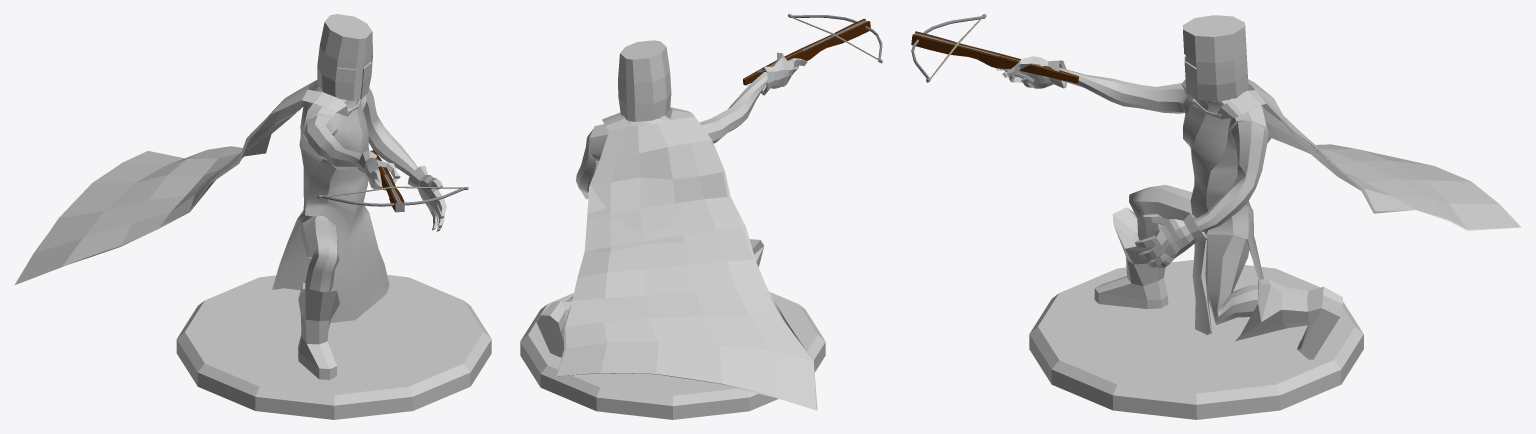
Rendered from Templar_Crossbow.fbx.
The picture shows the model from 3 angles, left to right: view 1: azimuth 30°, elevation 25°; view 2: azimuth 150°, elevation 25°; view 3: azimuth 270°, elevation 25°; orthographic projection. The views are drawn at different scales.
Parts seen in each view (by area): view 1: Base7, Templar_Crossbow, Cape, Crossbow; view 2: Cape, Base7, Templar_Crossbow, Crossbow; view 3: Templar_Crossbow, Base7, Cape, Crossbow.
Part boxes in pixels (box(x1,y1,x2,y2)): Base7: box(176, 275, 491, 419); Templar_Crossbow: box(272, 14, 446, 379); Cape: box(14, 80, 361, 285); Crossbow: box(317, 150, 468, 212); Cape: box(556, 107, 817, 410); Base7: box(520, 292, 825, 419); Templar_Crossbow: box(536, 40, 807, 357); Crossbow: box(743, 14, 882, 85); Templar_Crossbow: box(996, 15, 1342, 359); Base7: box(1029, 260, 1363, 419); Cape: box(1181, 79, 1521, 230); Crossbow: box(911, 14, 1078, 84).
Size of the model in its own units: 272 by 222 by 365.
